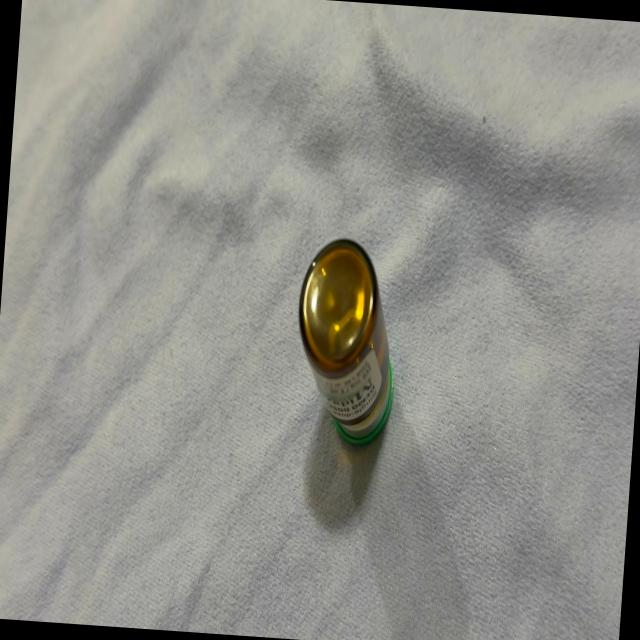midazolm: (291, 238, 401, 444)
